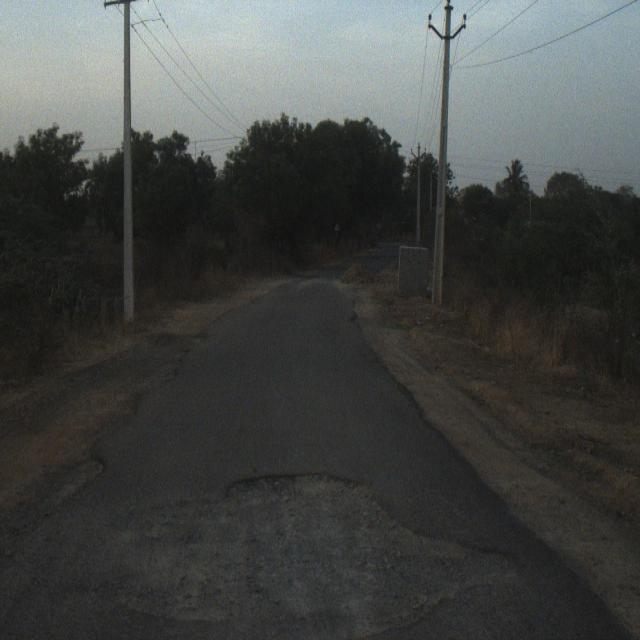Pothole: (130, 439, 536, 640), (76, 423, 129, 524)
